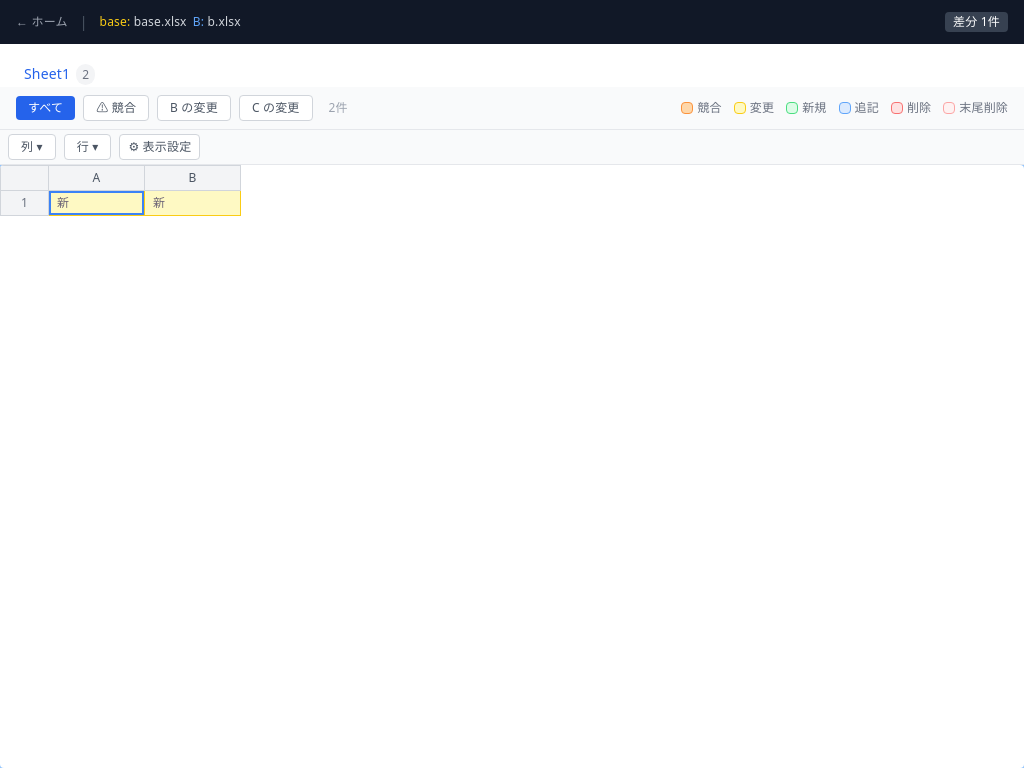
Test: B-031: 列・行フィルタ › 除外中はボタンが「列 N除外」と表示されオレンジ色になる
The width and height of the screenshot is (1024, 768).
Click the button "列 ▾" at (32, 147), box [8, 134, 56, 160]
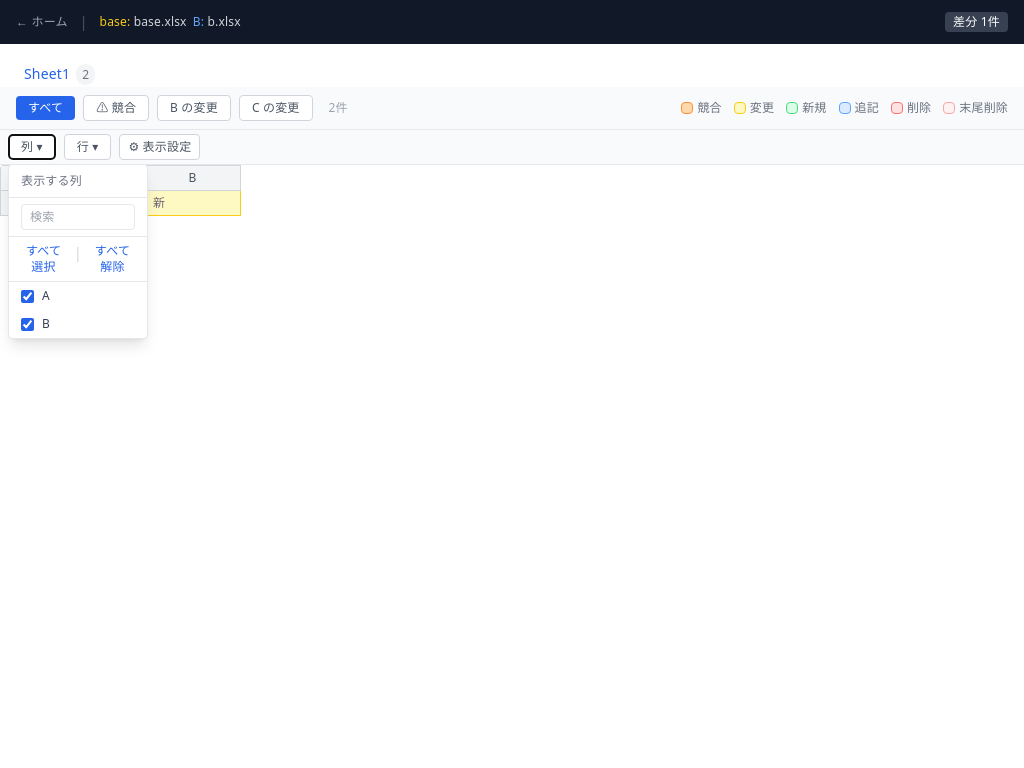
Click the checkbox labelled "A" at (28, 296), box [21, 290, 34, 302]
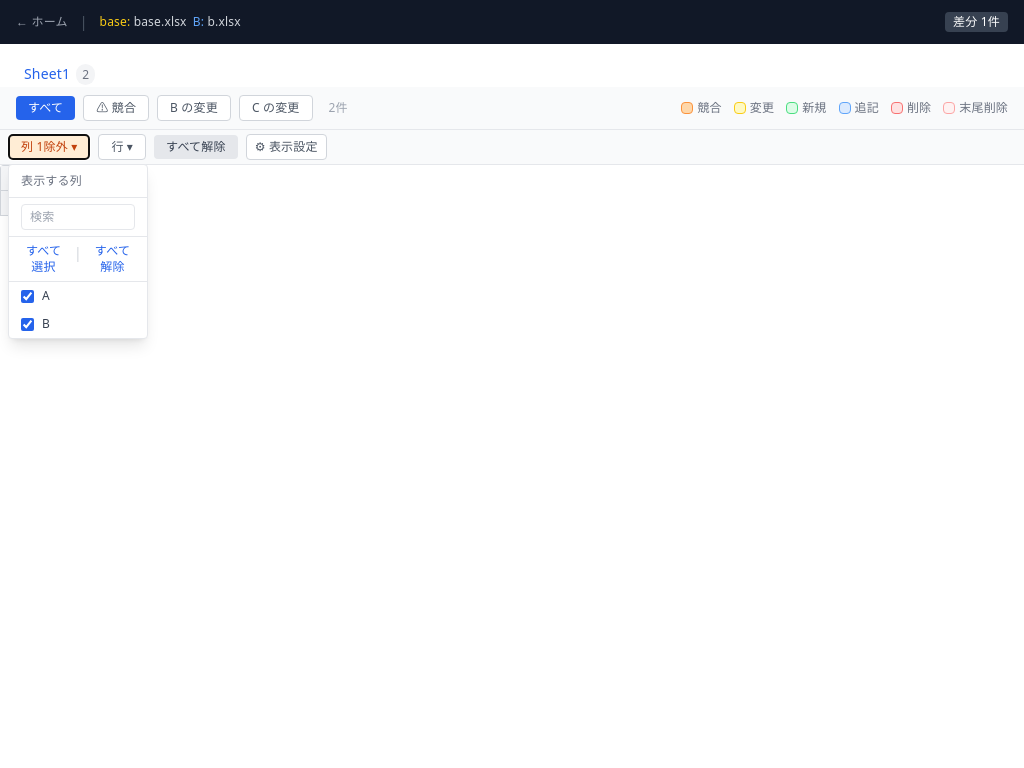
Expected: the button "列 1除外 ▾" is shown, [8, 134, 90, 160]
